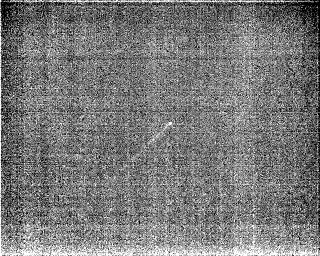AIRPLANE: (124, 121, 175, 163)
